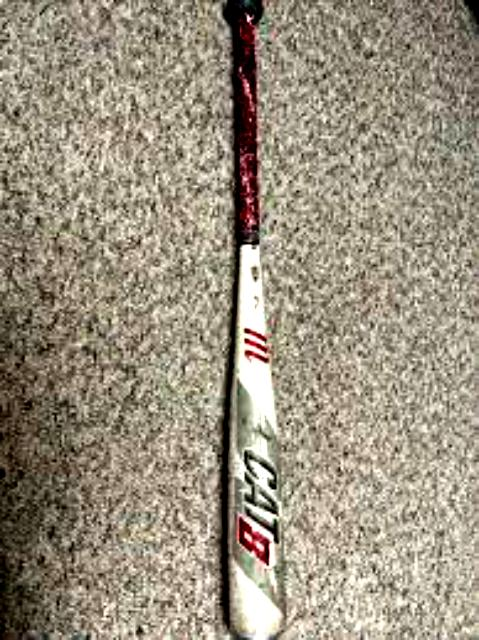baseball bat: (220, 0, 286, 638)
